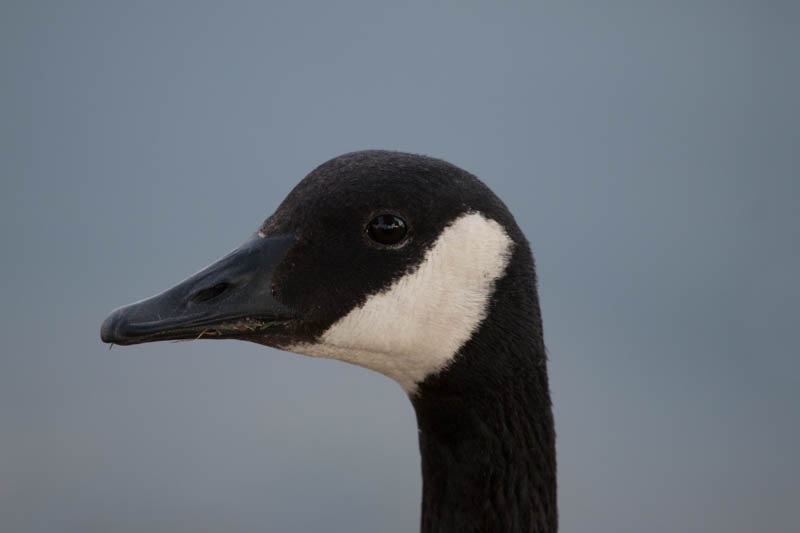goose-head: (100, 148, 550, 397)
